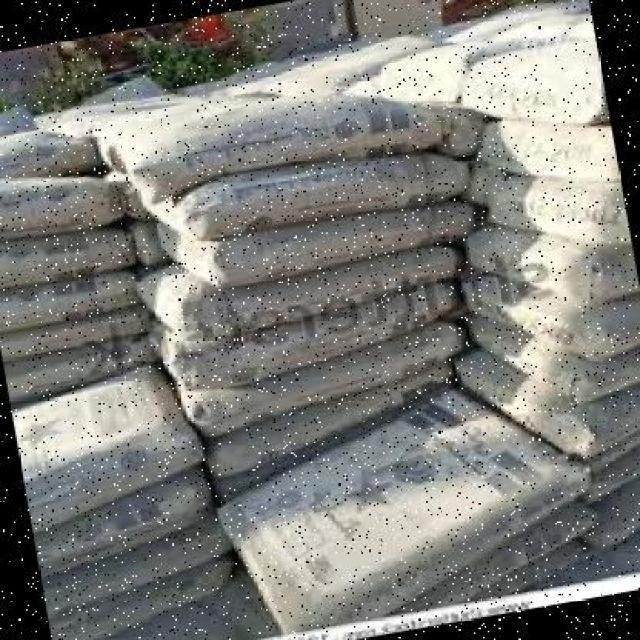gunny_bag: (207, 380, 592, 628), (89, 95, 439, 201), (150, 283, 455, 395), (170, 320, 467, 435), (130, 146, 477, 244), (126, 246, 457, 342), (150, 197, 475, 294), (364, 500, 607, 617), (11, 378, 195, 531), (212, 355, 457, 469), (452, 343, 640, 462), (40, 522, 229, 619), (34, 478, 216, 575), (189, 29, 450, 96), (460, 321, 640, 413), (48, 552, 221, 640), (475, 161, 630, 248), (452, 41, 604, 128), (457, 278, 640, 348), (460, 227, 640, 298), (421, 543, 598, 612), (0, 261, 149, 331), (3, 333, 153, 399), (32, 87, 239, 133), (0, 304, 148, 365), (335, 38, 473, 102), (0, 222, 140, 285), (403, 0, 591, 43), (0, 174, 123, 237), (475, 121, 611, 177), (564, 430, 640, 498), (0, 122, 95, 176), (473, 10, 584, 51), (584, 475, 640, 552), (433, 100, 487, 157), (123, 222, 168, 266)
